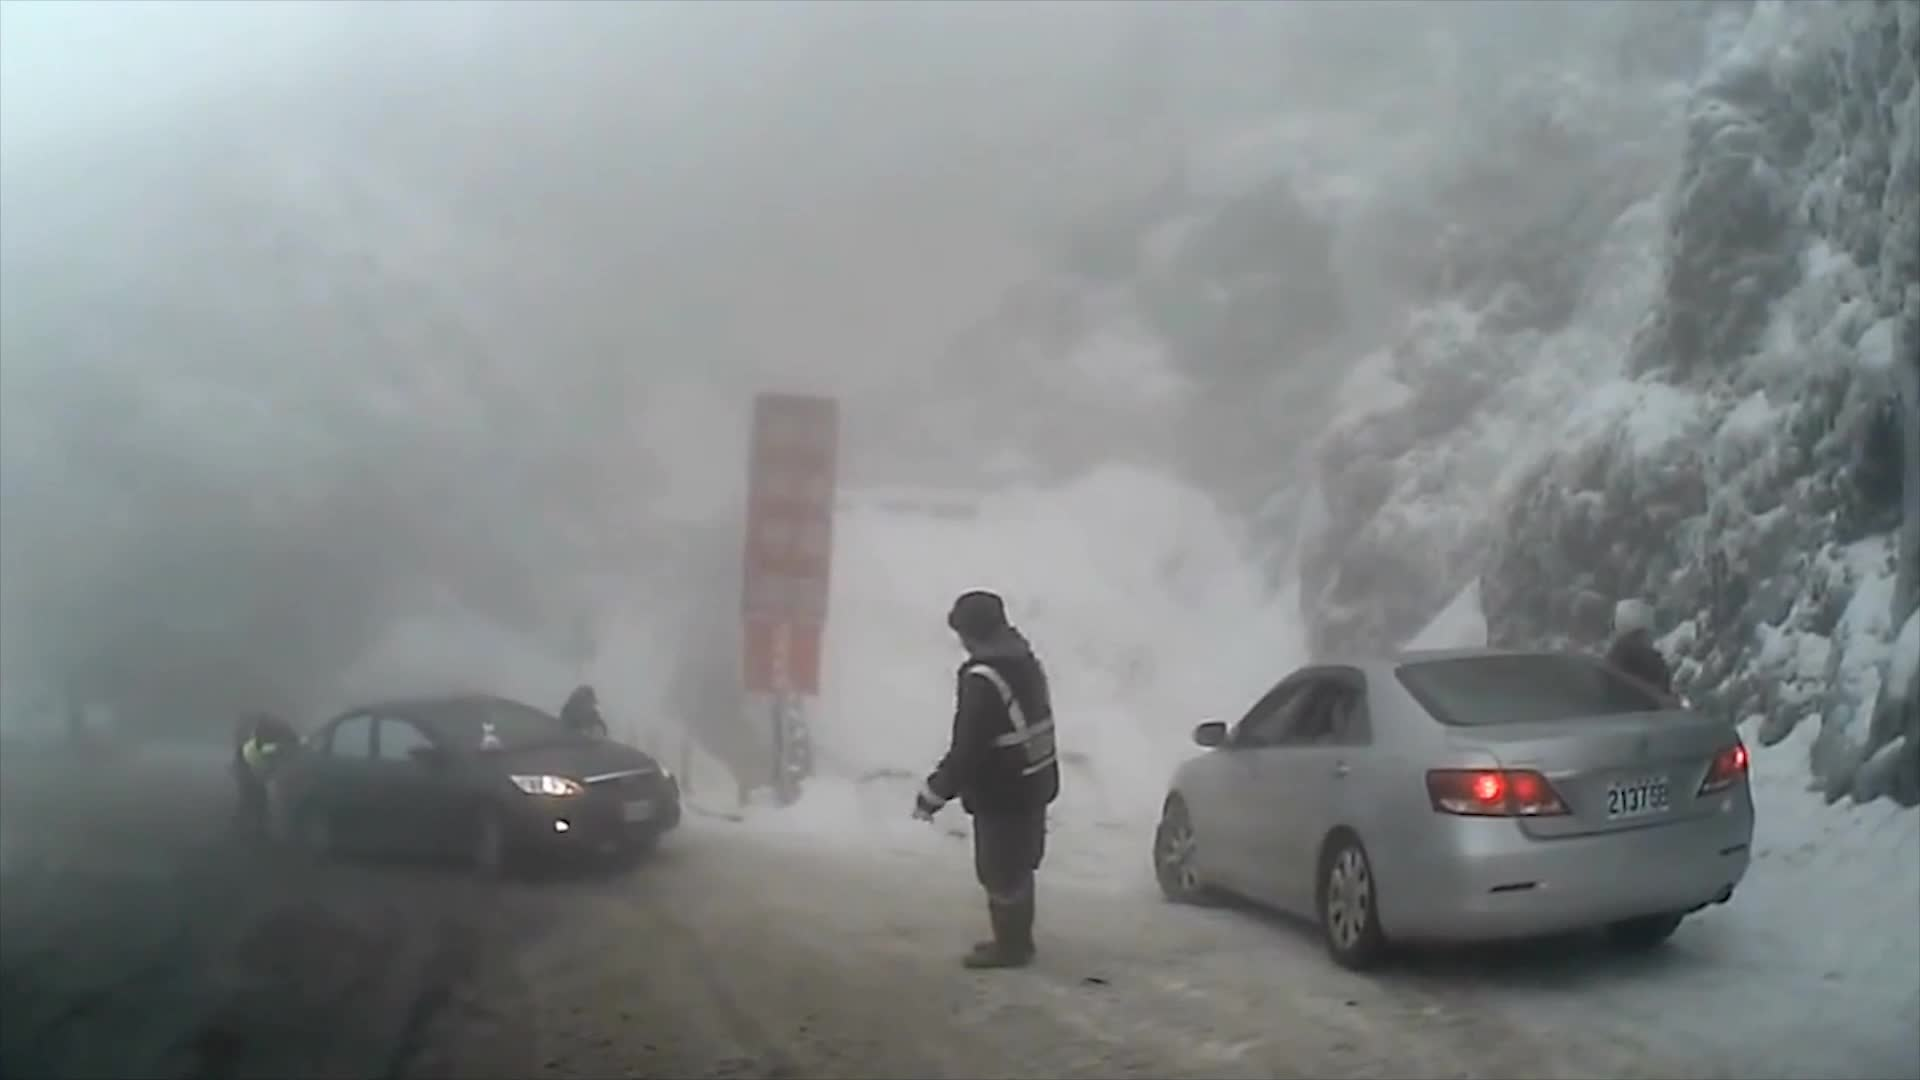pedestrian: (911, 591, 1058, 973), (1597, 597, 1675, 856), (230, 719, 300, 834)
vehicle: (1150, 648, 1754, 972), (266, 695, 681, 881)
